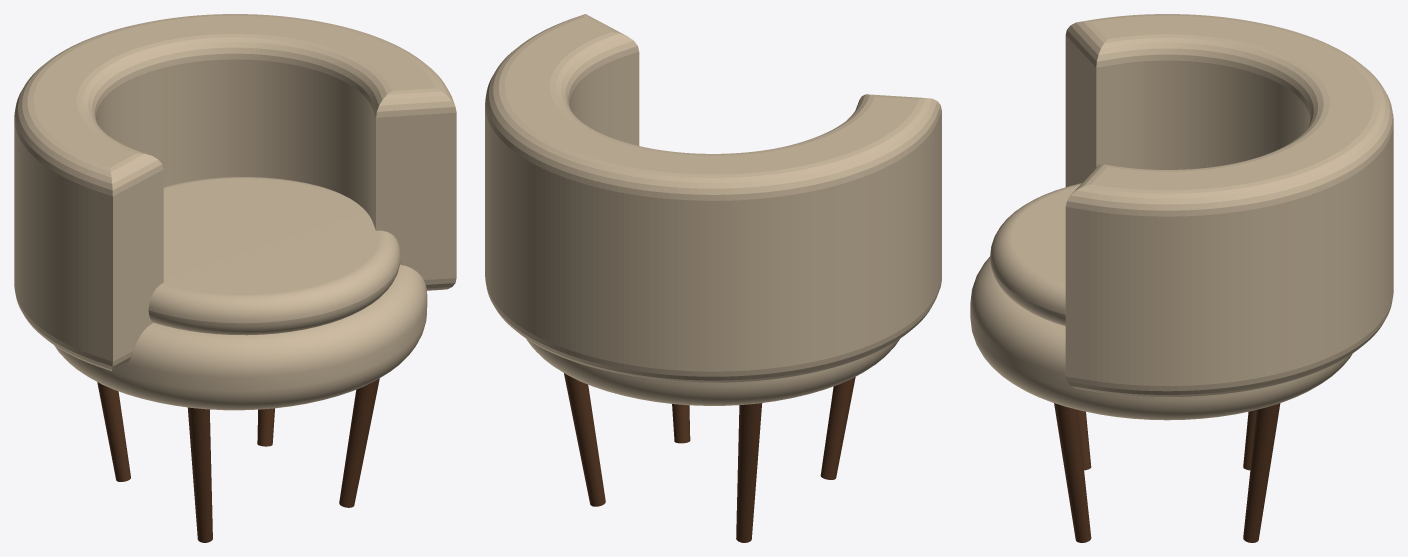
File: lune-chair.glb
3 renders of one model, left to right at view 1: azimuth 30°, elevation 25°; view 2: azimuth 150°, elevation 25°; view 3: azimuth 270°, elevation 25°, orthographic. The views are drawn at different scales.
Parts seen in each view (by area): view 1: back, cushion, seat, leg-1, leg-0, leg-2, leg-3; view 2: back, seat, leg-2, leg-3, leg-1, leg-0; view 3: back, seat, cushion, leg-0, leg-3, leg-1, leg-2.
Part boxes in pixels (left/top/right/bottom): back: left=14, top=14, right=456, bottom=371; cushion: left=148, top=177, right=400, bottom=335; seat: left=54, top=264, right=427, bottom=410; leg-1: left=187, top=407, right=212, bottom=542; leg-0: left=339, top=378, right=379, bottom=507; leg-2: left=97, top=382, right=130, bottom=481; leg-3: left=257, top=408, right=274, bottom=446; back: left=485, top=14, right=941, bottom=382; seat: left=526, top=339, right=899, bottom=405; leg-2: left=736, top=403, right=762, bottom=542; leg-3: left=564, top=373, right=605, bottom=506; leg-1: left=820, top=377, right=855, bottom=479; leg-0: left=672, top=404, right=690, bottom=443; back: left=1065, top=14, right=1393, bottom=397; seat: left=970, top=257, right=1352, bottom=420; cushion: left=990, top=183, right=1081, bottom=325; leg-0: left=1054, top=403, right=1091, bottom=542; leg-3: left=1243, top=403, right=1280, bottom=542; leg-1: left=1077, top=410, right=1091, bottom=470; leg-2: left=1243, top=410, right=1256, bottom=470.
Size of the model in its own units: 0.9199 by 0.9002 by 0.86.
